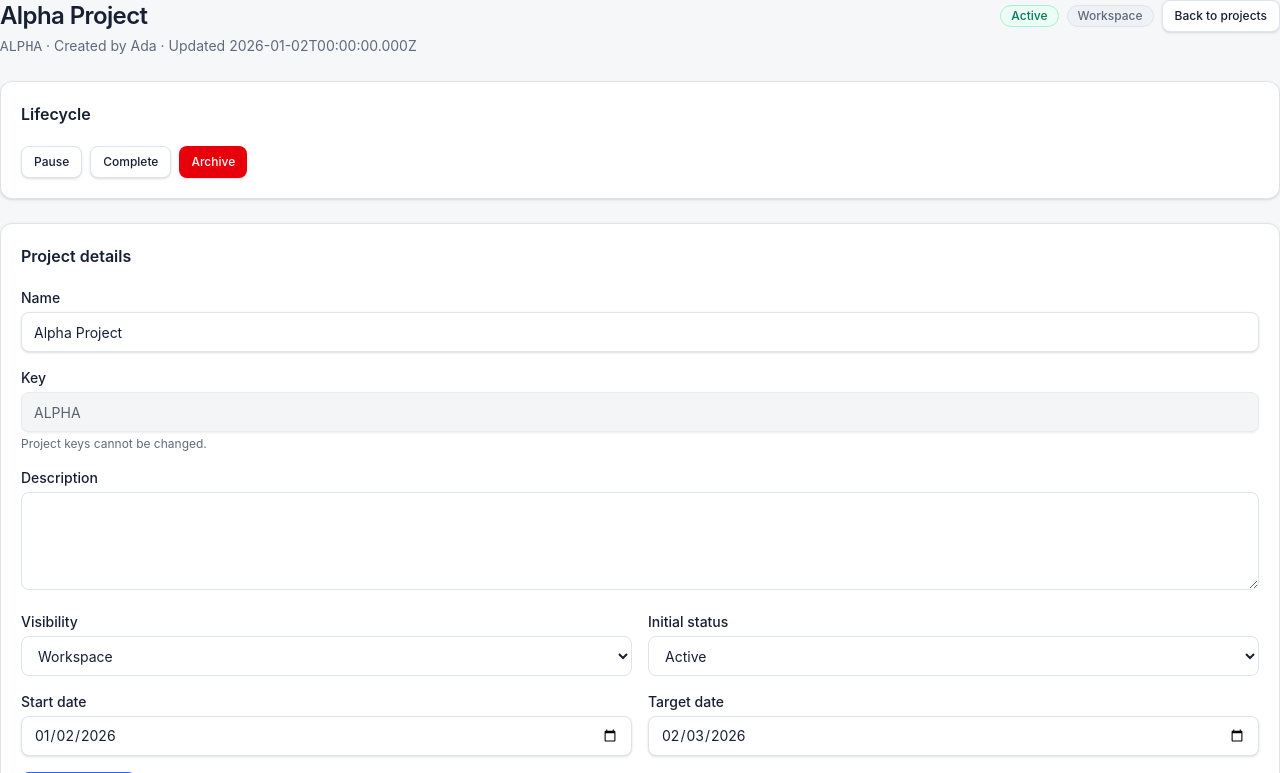
Test case: project detail page › archives and restores through the lifecycle actions
This screenshot has width=1280, height=773.
Later steps or results of the test are not shown.
Click the button "Archive" at (213, 162), box [179,146,247,178]
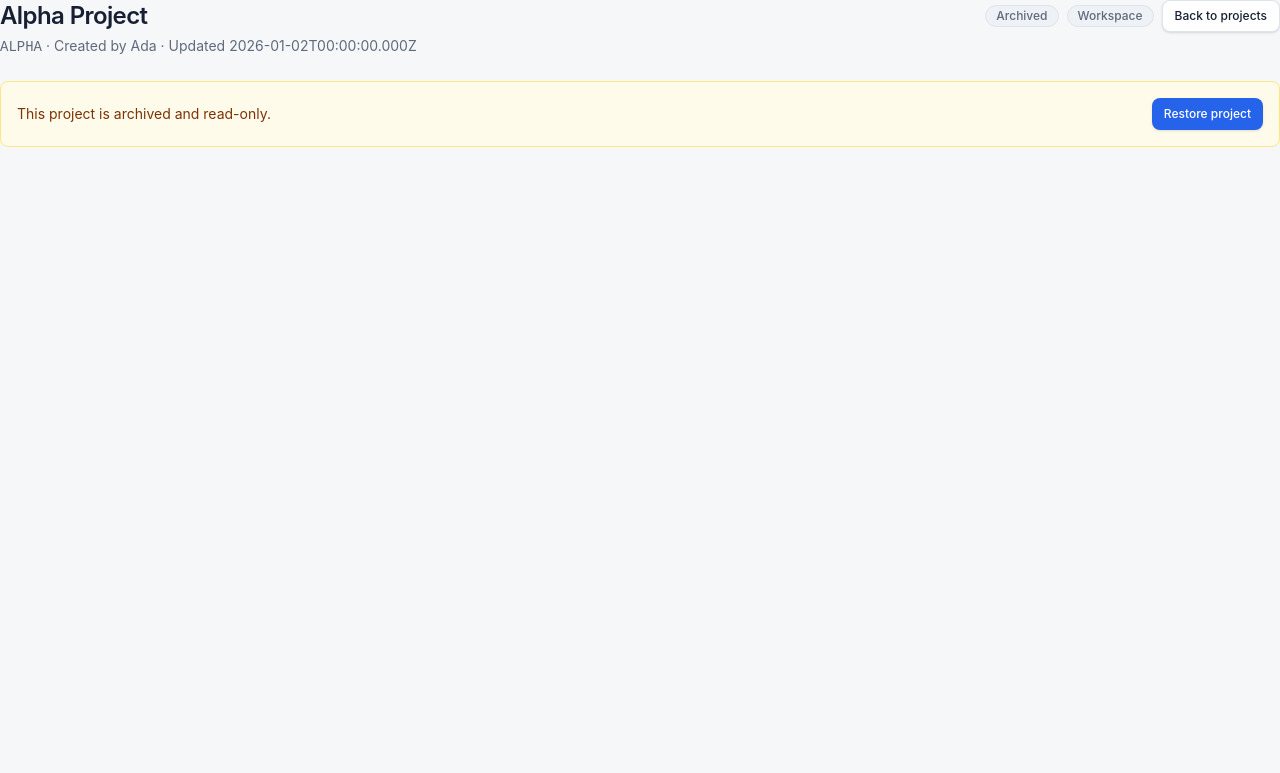
expect the text "This project is archived and read-only." is shown: met, box [17,104,271,124]
